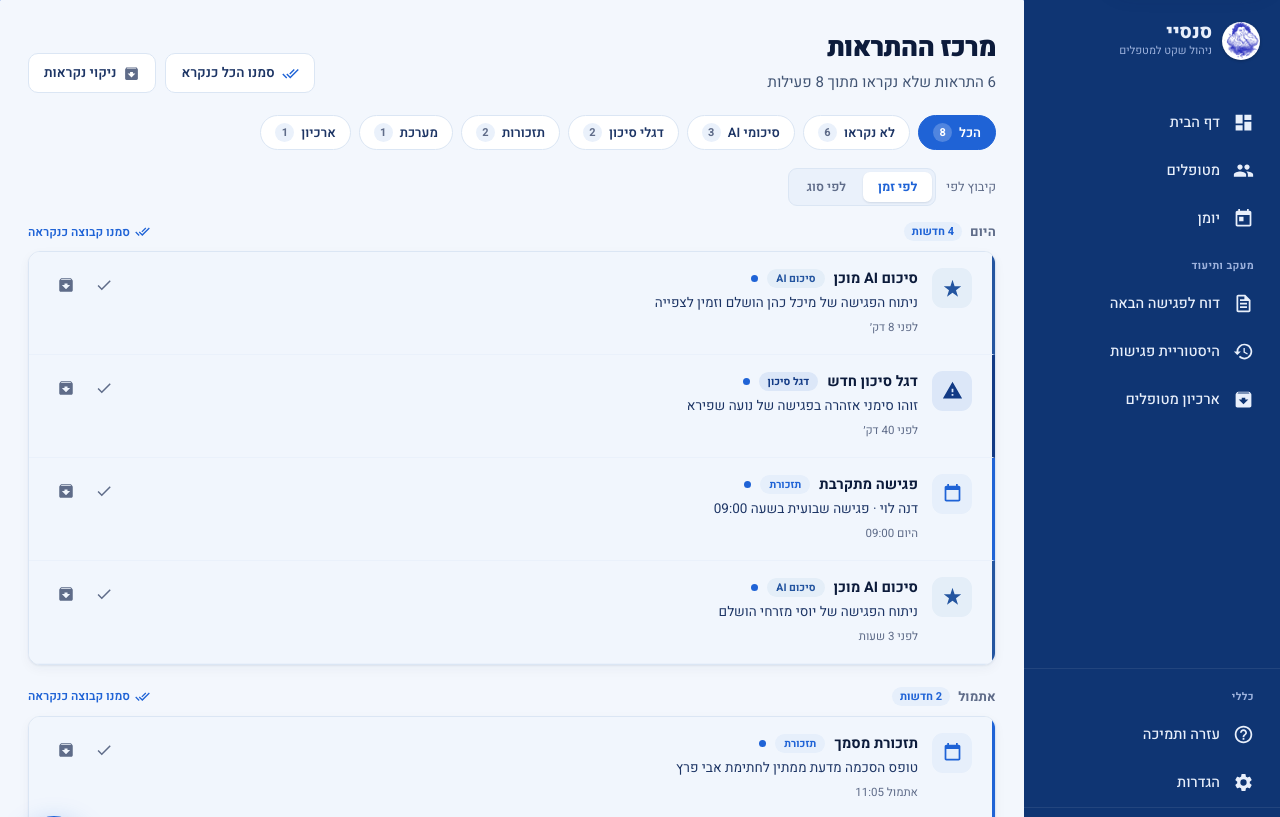
it: notification center — unread count, mark-all-read, filtering › the "לא נקראו" filter lists only unread items, and its count matches
Click the button "לא נקראו 6": (856, 132) [803,115,910,150]
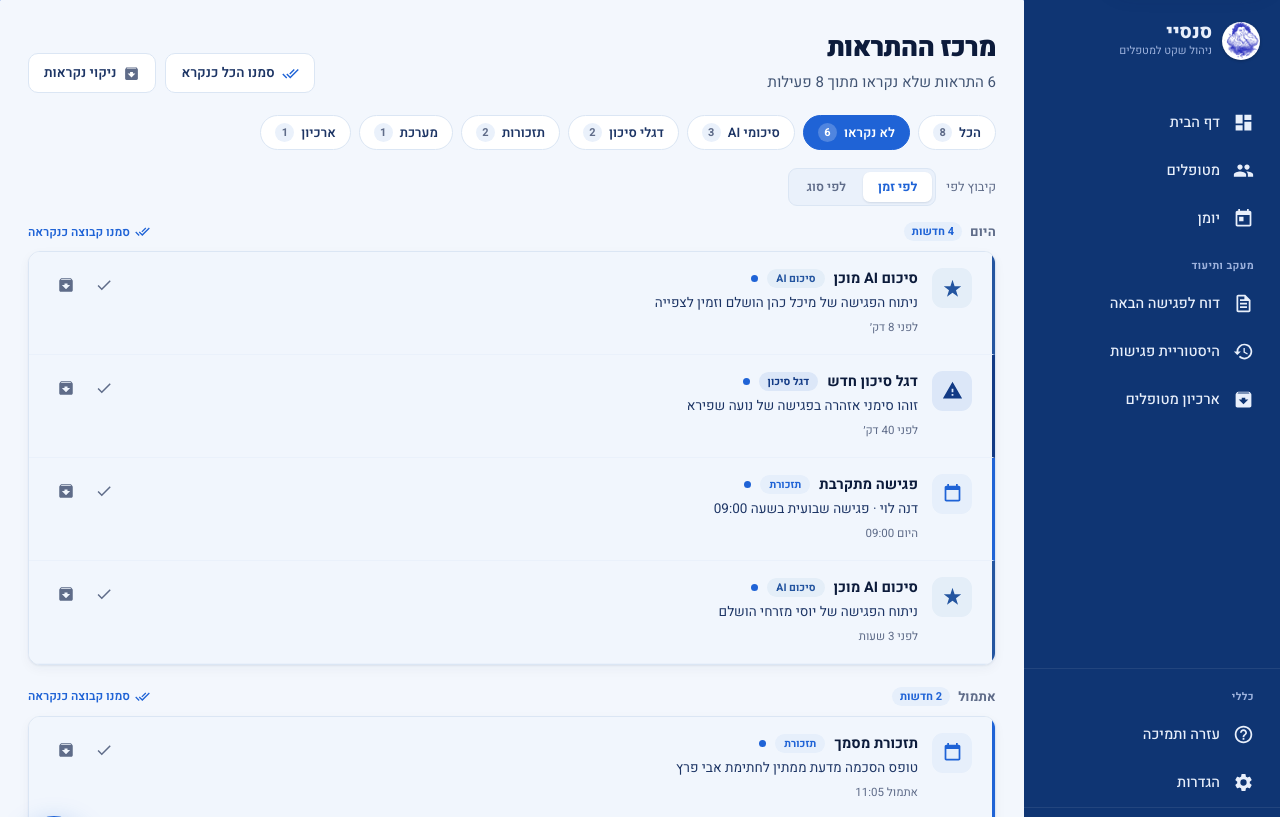
expect the element with id "main-content" shows "דגל סיכון חדש": met, box [135,371,972,441]
marking all read then leaves the unread filter empty → empty state copy
Click the button "סמנו הכל כנקרא": (240, 73) [166,53,315,93]
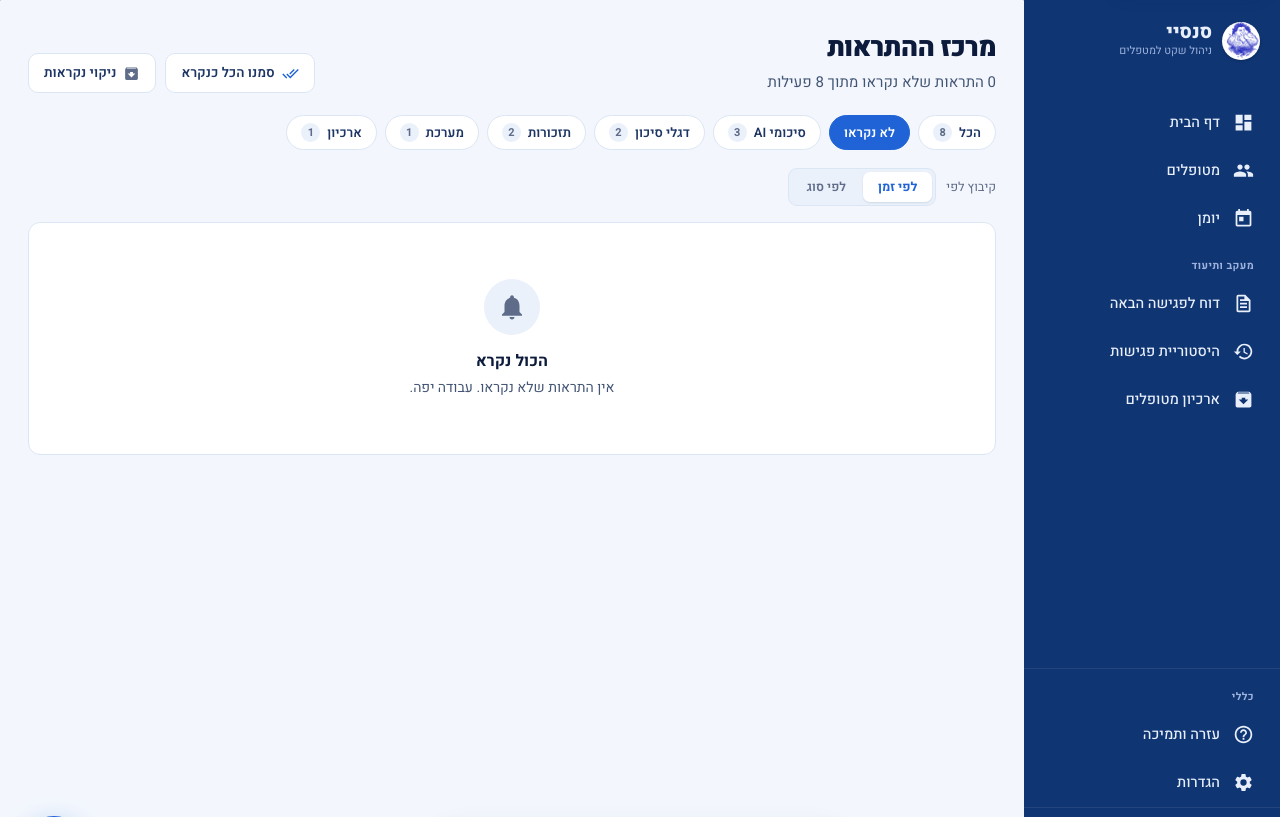
expect the element with id "main-content" shows "הכול נקרא": met, box [476,349,548,373]
